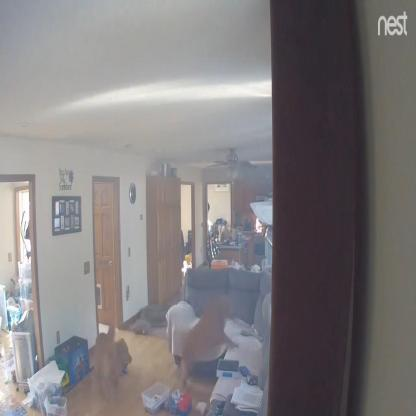fire: (256, 218, 262, 233)
